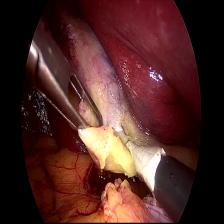Grasper: (26, 22, 107, 151)
Hook: (119, 120, 167, 196)
